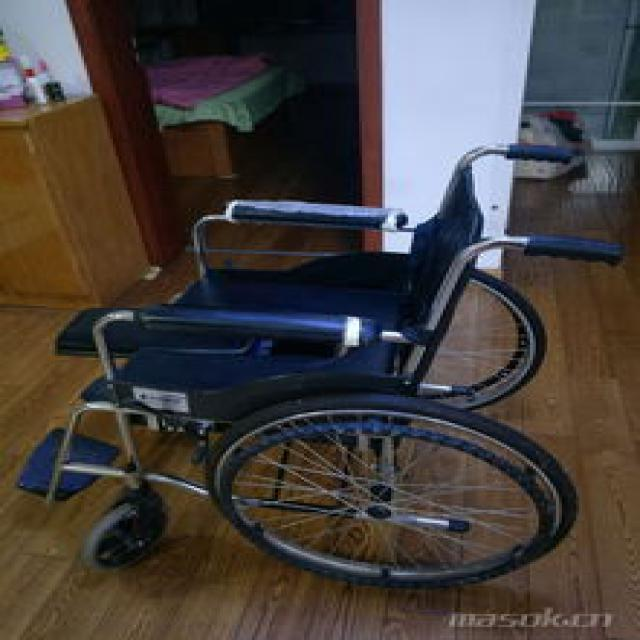wheelchair: (5, 137, 622, 590)
